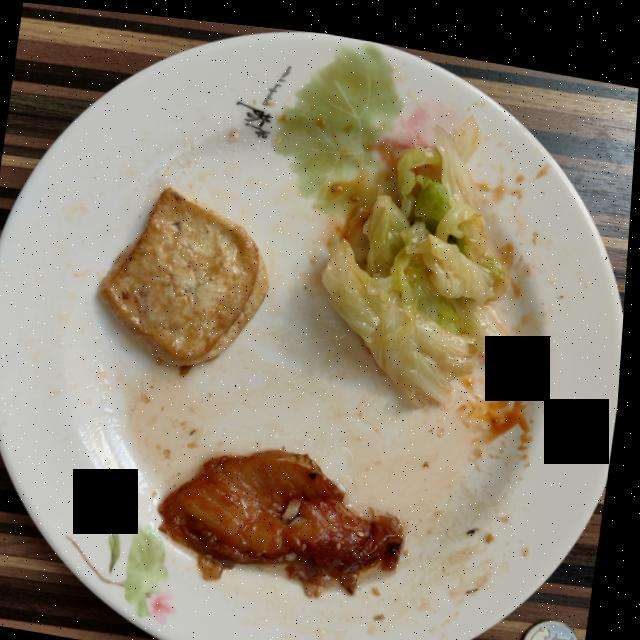Kabayaki sea bream fillet: (165, 443, 409, 589)
cabbage: (324, 107, 526, 397)
coin: (528, 607, 588, 640)
